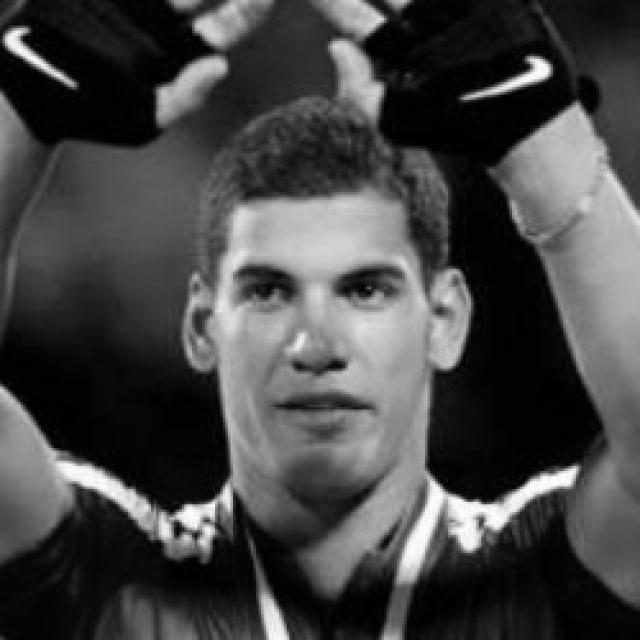real: (216, 192, 430, 496), (233, 257, 405, 315)
